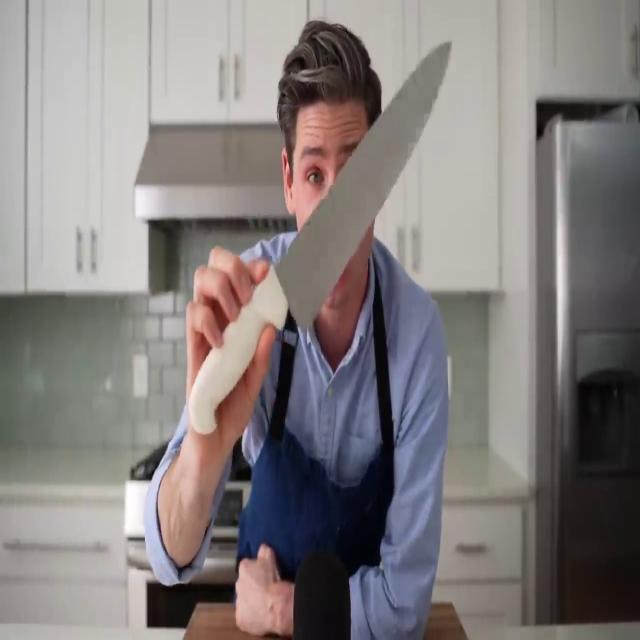Knife: (184, 34, 460, 436)
